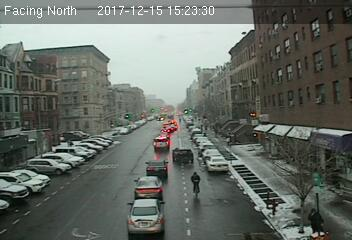bicycle: (191, 169, 202, 201)
car: (125, 199, 168, 237), (132, 175, 163, 200), (144, 159, 170, 177), (207, 156, 229, 173), (173, 148, 192, 163), (153, 137, 170, 150)
